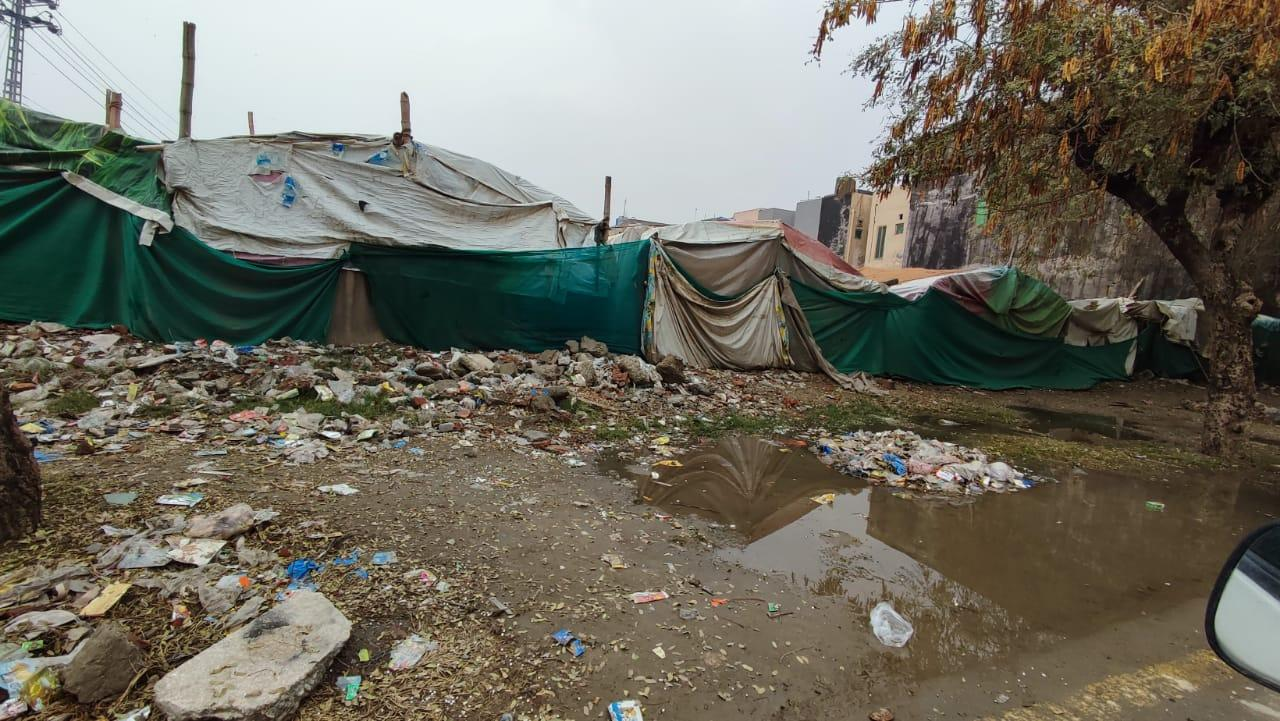garbage: (0, 347, 1036, 515)
